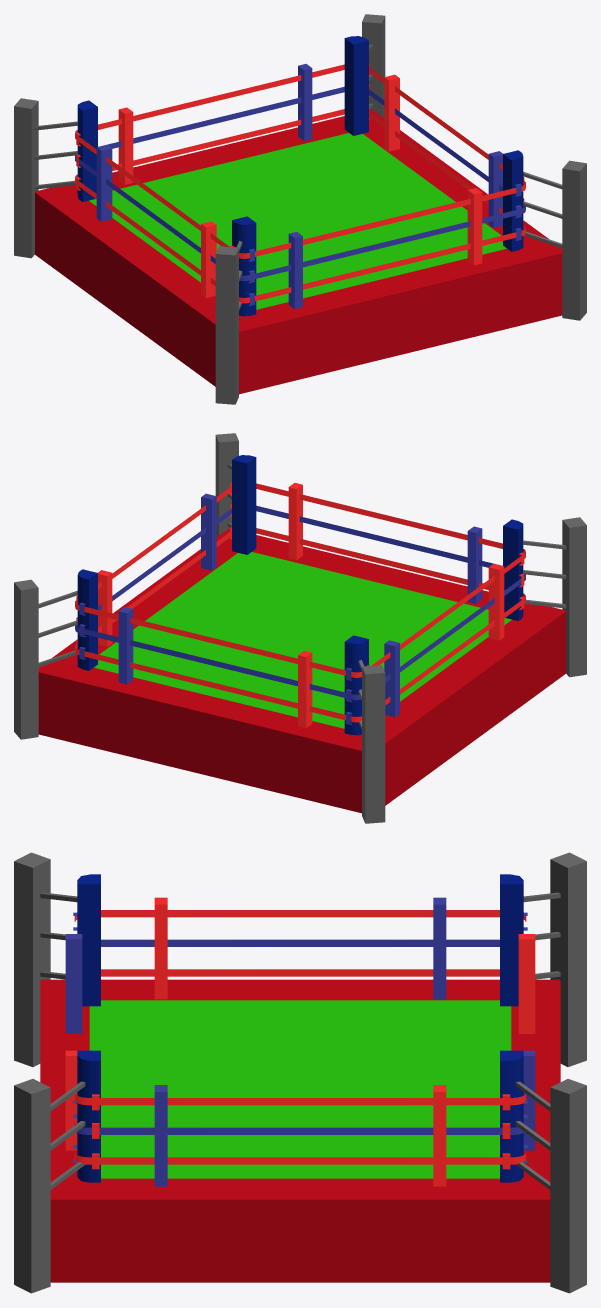
File: BoxingRing 1.fbx
3 renders of one model, top to bottom at view 1: azimuth 30°, elevation 25°; view 2: azimuth 150°, elevation 25°; view 3: azimuth 270°, elevation 25°, orthographic. The views are drawn at different scales.
Parts seen in each view (by area): view 1: Cube.349, Cube.009; view 2: Cube.349, Cube.009; view 3: Cube.349, Cube.009.
Part boxes in pixels (<box>): Cube.349: <box>14,14,586,404</box>; Cube.009: <box>75,64,525,303</box>; Cube.349: <box>14,433,586,823</box>; Cube.009: <box>75,483,525,722</box>; Cube.349: <box>14,852,586,1293</box>; Cube.009: <box>74,910,526,1164</box>.
Bounding box in the file's own units: 512 × 513 × 203.
